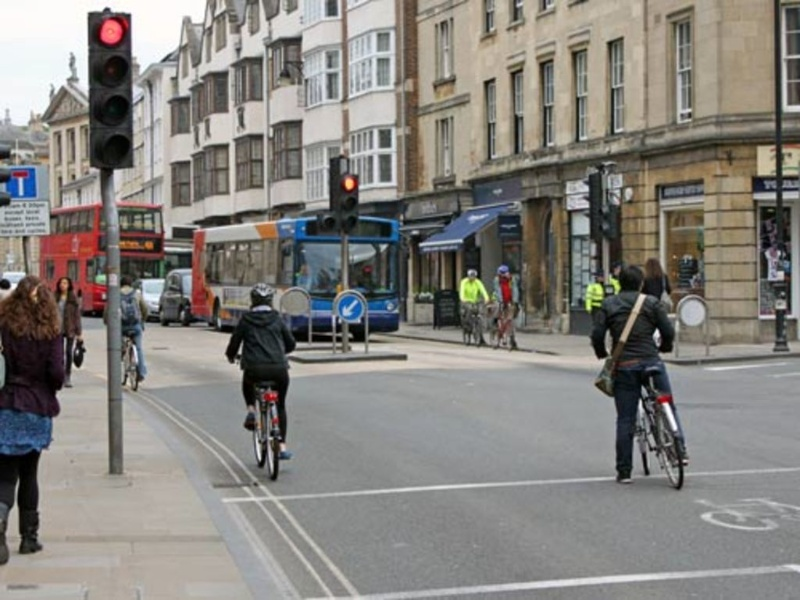red_light: (81, 5, 134, 60)
